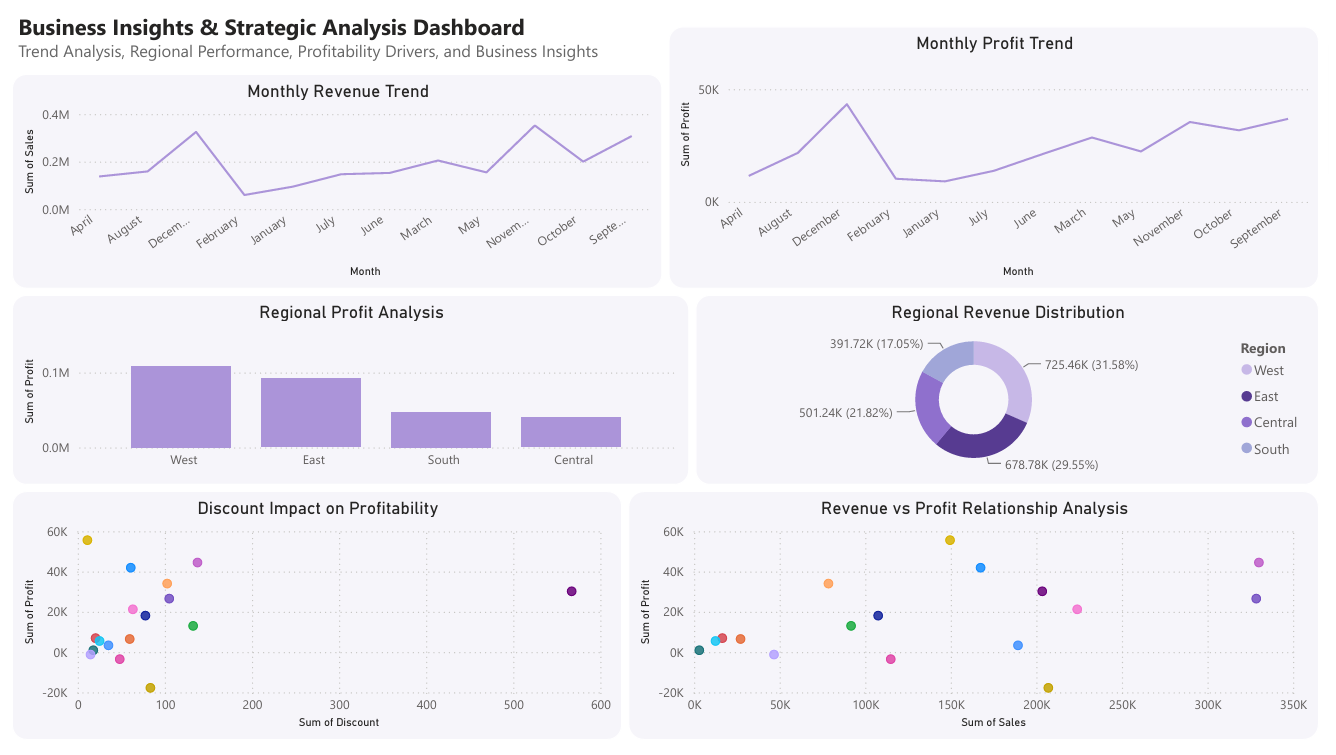

Layout of this report page (visuals, bound fields, positions):
{"tool":"powerbi","page":{"name":"Business Insights & Strategic Analysis Dashboard","canvas":[1280,720],"ordinal":2},"visuals":[{"type":"lineChart","title":"Monthly Revenue Trend","fields":{"Category":["Sample - Superstore.Month"],"Y":["Sum(Sample - Superstore.Sales)"]},"box":[5,65.8,630,208.3],"z":0},{"type":"lineChart","title":"Monthly Profit Trend","fields":{"Category":["Sample - Superstore.Month"],"Y":["Sum(Sample - Superstore.Profit)"]},"box":[640.8,20,630,253.8],"z":1000},{"type":"clusteredColumnChart","title":"Regional Profit Analysis","fields":{"Category":["Sample - Superstore.Region"],"Y":["Sum(Sample - Superstore.Profit)"]},"box":[5.4,280,655.4,183.8],"z":2000},{"type":"scatterChart","title":"Revenue vs Profit Relationship Analysis","fields":{"X":["Sum(Sample - Superstore.Sales)"],"Y":["Sum(Sample - Superstore.Profit)"],"Series":["Sample - Superstore.Sub-Category"]},"box":[601.5,470,669.2,240.8],"z":3000},{"type":"scatterChart","title":"Discount Impact on Profitability","fields":{"X":["Sum(Sample - Superstore.Discount)"],"Y":["Sum(Sample - Superstore.Profit)"],"Series":["Sample - Superstore.Sub-Category"]},"box":[5.4,470,590.8,240.8],"z":4000},{"type":"donutChart","title":"Regional Revenue Distribution","fields":{"Category":["Sample - Superstore.Region"],"Y":["Sum(Sample - Superstore.Sales)"]},"box":[666.9,280,603.8,183.8],"z":5000},{"type":"textbox","box":[5.6,0,634.4,60],"z":6000}]}

Visuals, with their boxes in screenshot pixels (x1, y1, x2, y2), scaled from the page's 1280x720 canvas onto the 1336x755 screenshot:
"Monthly Revenue Trend" lineChart: 5,69,663,287
"Monthly Profit Trend" lineChart: 669,21,1326,287
"Regional Profit Analysis" clusteredColumnChart: 6,294,690,486
"Revenue vs Profit Relationship Analysis" scatterChart: 628,493,1326,745
"Discount Impact on Profitability" scatterChart: 6,493,622,745
"Regional Revenue Distribution" donutChart: 696,294,1326,486
textbox: 6,0,668,63
